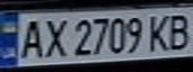0: (109, 15, 127, 54)
2: (69, 15, 93, 57)
7: (90, 15, 112, 56)
9: (124, 14, 148, 54)
A: (15, 16, 48, 60)
B: (163, 11, 193, 52)
K: (145, 11, 175, 52)
X: (39, 16, 69, 60)
